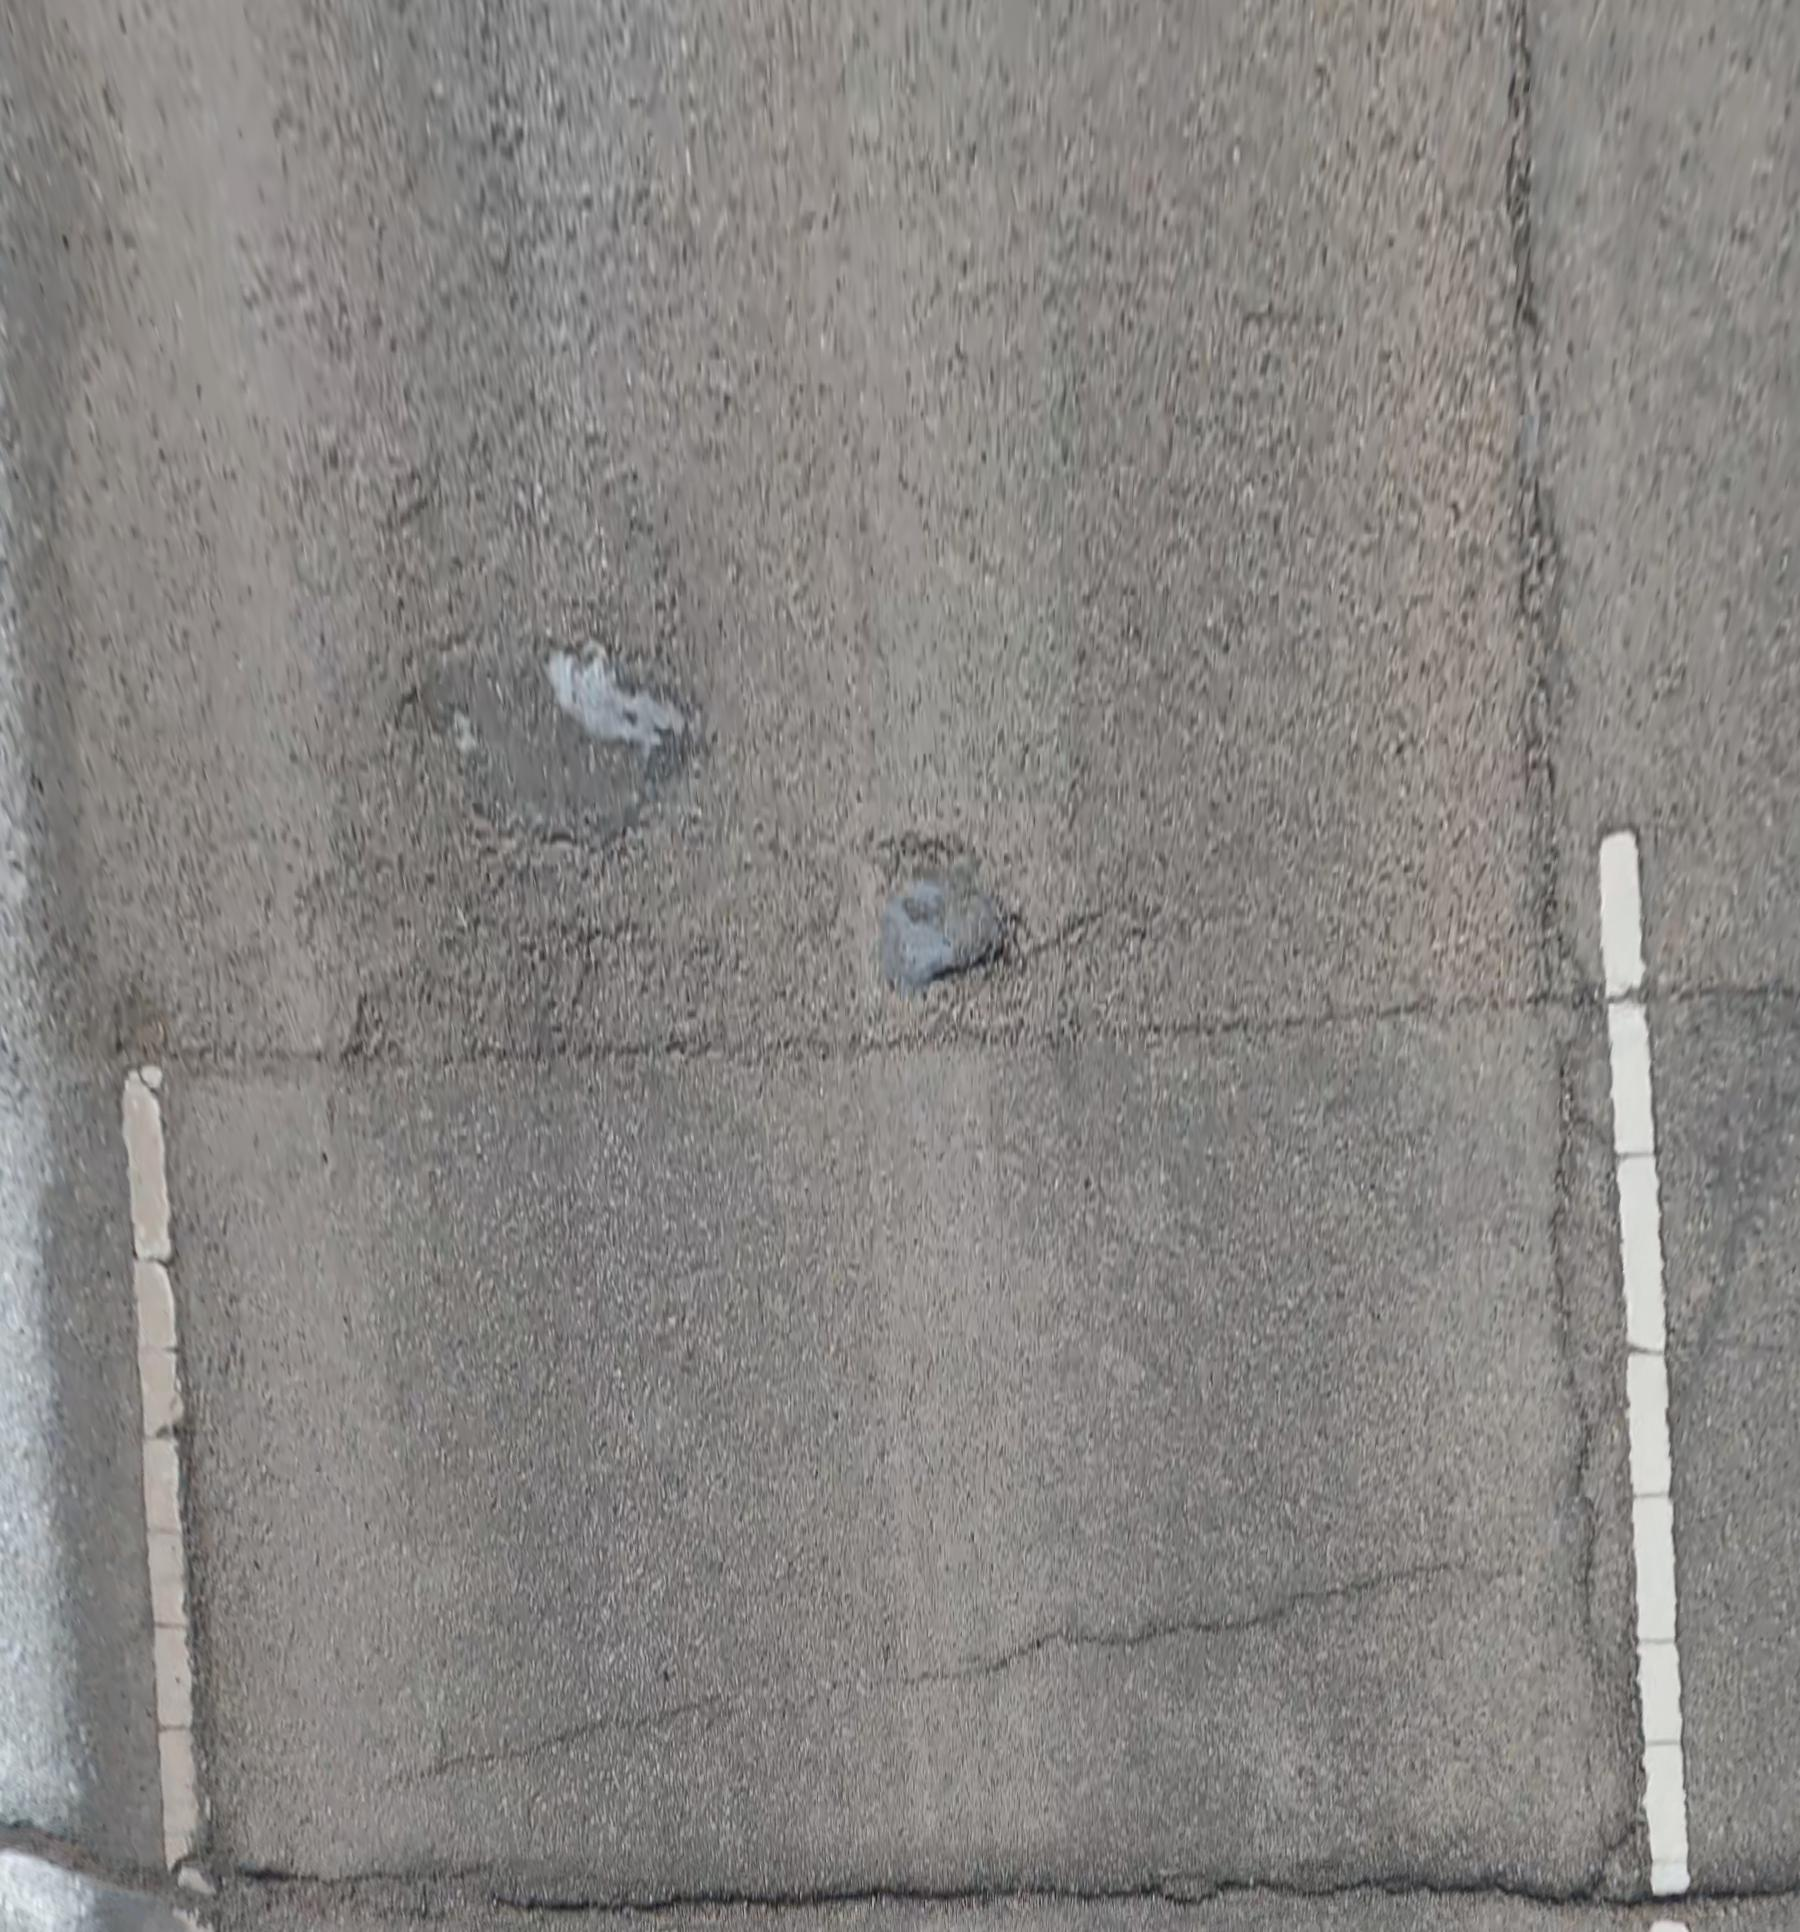pothole_patch_good: (425, 629, 704, 848), (878, 832, 1017, 996)
